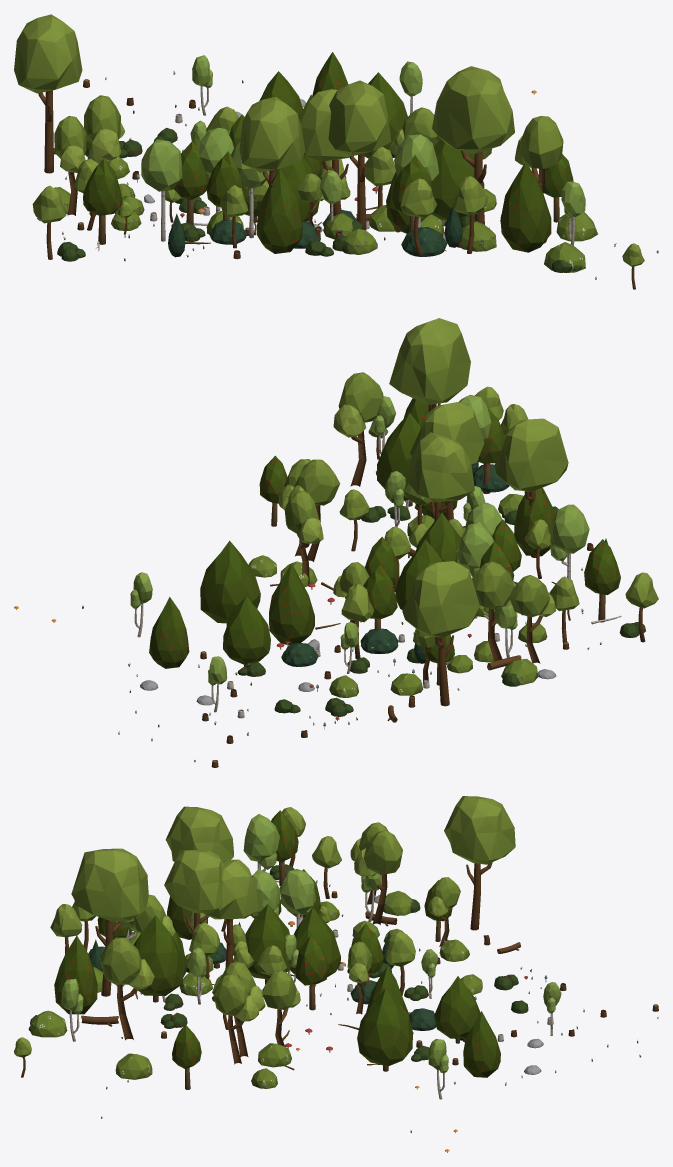
3 renders of one model, top to bottom at view 1: azimuth 30°, elevation 25°; view 2: azimuth 150°, elevation 25°; view 3: azimuth 270°, elevation 25°, orthographic. The views are drawn at different scales.
Parts seen in each view (by area): view 1: Beechtree3 - copy.013, Beechtree3 - copy.006, Beechtree3 - copy.024, Beechtree3 - copy.012, Hollytree3 - copy.022, Hollytree3 - copy.002, Beechtree3 - copy.025, Beechtree2 - copy.004, Hollytree2 - copy.008, BirchTree3 - copy.018, Beechtree2 - copy.039, Hollytree1 - copy.012 (+38 smaller); view 2: Beechtree3 - copy.013, Beechtree3 - copy.006, Beechtree3 - copy.012, Beechtree3 - copy.025, Hollytree2 - copy.016, Beechtree2 - copy.004, Hollytree3 - copy.006, Beechtree3 - copy.024, Hollytree2 - copy.021, Hollytree3 - copy.019, Beechtree2 - copy.039, Hollytree2 - copy.008 (+26 smaller); view 3: Beechtree3 - copy.013, Beechtree3 - copy.006, Beechtree3 - copy.024, Hollytree2 - copy.016, Beechtree3 - copy.012, Hollytree2 - copy.008, Beechtree2 - copy.004, Beechtree3 - copy.025, Beechtree2 - copy.039, Hollytree2 - copy.021, Hollytree3 - copy.022, Beechtree2 - copy.054 (+32 smaller).
Boxes of the visible parts, x1,y1,x2,y2 form: Beechtree3 - copy.013: [432, 66, 514, 224]; Beechtree3 - copy.006: [14, 14, 82, 173]; Beechtree3 - copy.024: [328, 80, 391, 230]; Beechtree3 - copy.012: [239, 97, 305, 187]; Hollytree3 - copy.022: [500, 162, 551, 252]; Hollytree3 - copy.002: [257, 169, 302, 253]; Beechtree3 - copy.025: [301, 89, 350, 216]; Beechtree2 - copy.004: [515, 116, 563, 193]; Hollytree2 - copy.008: [431, 139, 484, 220]; BirchTree3 - copy.018: [141, 139, 182, 241]; Beechtree2 - copy.039: [84, 95, 121, 160]; Hollytree1 - copy.012: [83, 159, 122, 244]; Beechtree3 - copy.013: [389, 318, 470, 412]; Beechtree3 - copy.006: [402, 561, 479, 706]; Beechtree3 - copy.012: [494, 418, 568, 557]; Beechtree3 - copy.025: [409, 432, 474, 520]; Hollytree2 - copy.016: [200, 540, 260, 626]; Beechtree2 - copy.004: [333, 372, 383, 486]; Hollytree3 - copy.006: [269, 563, 314, 644]; Beechtree3 - copy.024: [410, 402, 484, 520]; Hollytree2 - copy.021: [223, 596, 270, 667]; Hollytree3 - copy.019: [149, 597, 189, 668]; Beechtree2 - copy.039: [472, 561, 515, 661]; Hollytree2 - copy.008: [377, 413, 420, 506]; Beechtree3 - copy.013: [71, 848, 148, 996]; Beechtree3 - copy.006: [444, 796, 515, 930]; Beechtree3 - copy.024: [164, 849, 225, 932]; Hollytree2 - copy.016: [357, 988, 412, 1071]; Beechtree3 - copy.012: [165, 806, 233, 861]; Hollytree2 - copy.008: [134, 915, 183, 1002]; Beechtree2 - copy.004: [100, 937, 154, 1040]; Beechtree3 - copy.025: [204, 859, 263, 968]; Beechtree2 - copy.039: [354, 830, 402, 924]; Hollytree2 - copy.021: [434, 976, 480, 1043]; Hollytree3 - copy.022: [54, 935, 97, 1014]; Beechtree2 - copy.054: [213, 974, 259, 1064].
Bounding box in the file's own units: 72.44 × 26.61 × 78.23.
Materials: 34 (34 with a texture image).
